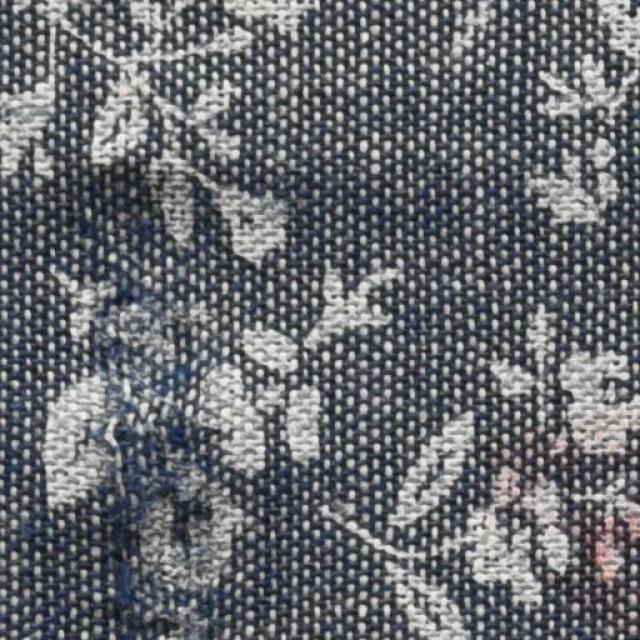Snag: (84, 229, 214, 639)
